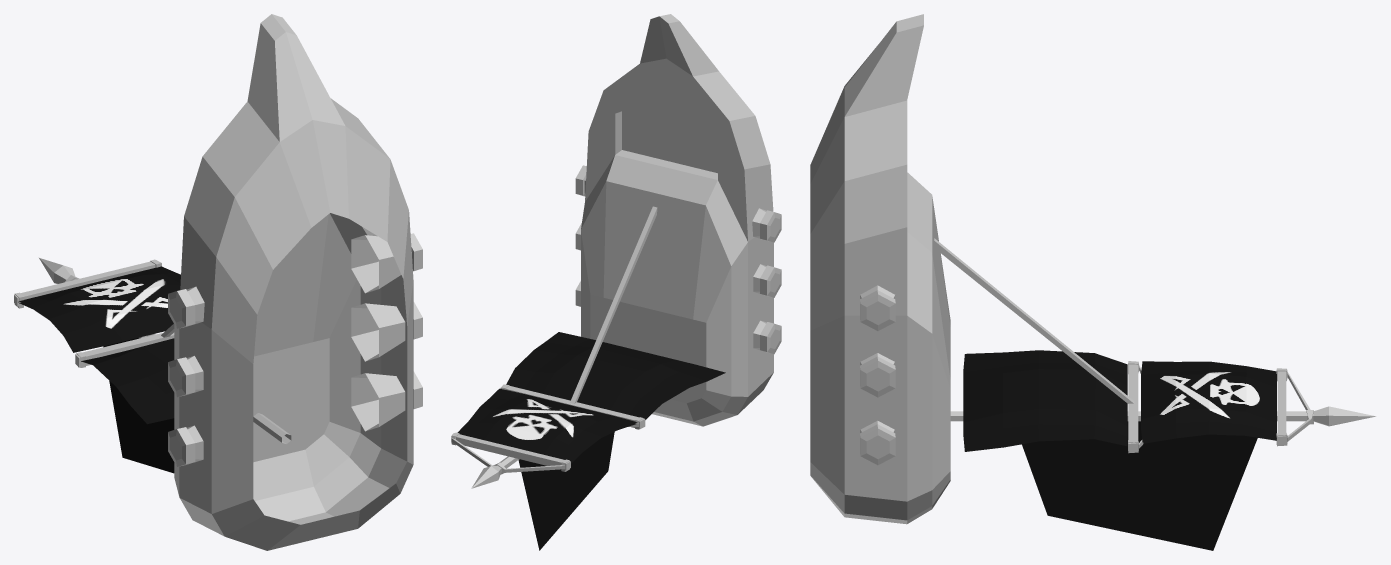
Rendered from pirate_basic_my_4.fbx.
The picture shows the model from 3 angles, left to right: view 1: azimuth 30°, elevation 25°; view 2: azimuth 150°, elevation 25°; view 3: azimuth 270°, elevation 25°; orthographic projection. The views are drawn at different scales.
Visible parts, largest first — view 1: Cube.183; view 2: Cube.183; view 3: Cube.183.
Part boxes in pixels (x1,y1,x2,y2): Cube.183: (14, 14, 422, 550); Cube.183: (451, 14, 781, 550); Cube.183: (810, 14, 1375, 550).
Bounding box in the file's own units: 259 × 572 × 547.
